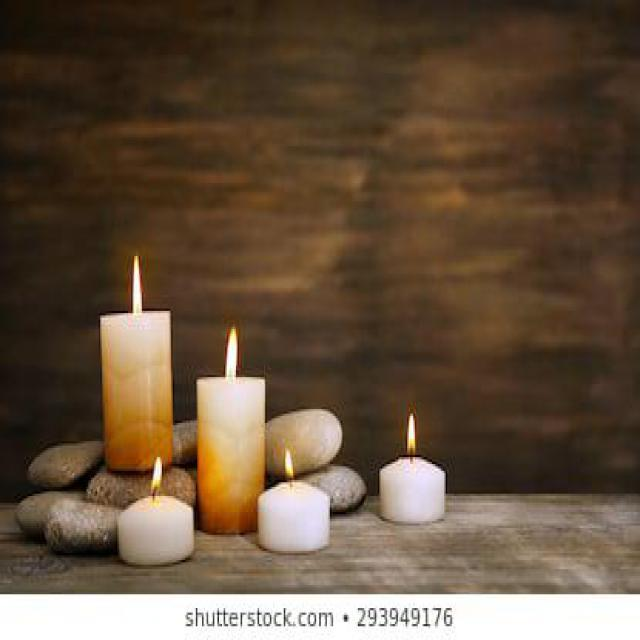Fire: (226, 326, 238, 379), (151, 457, 164, 496), (134, 254, 142, 314), (406, 414, 416, 457), (285, 448, 295, 485)
